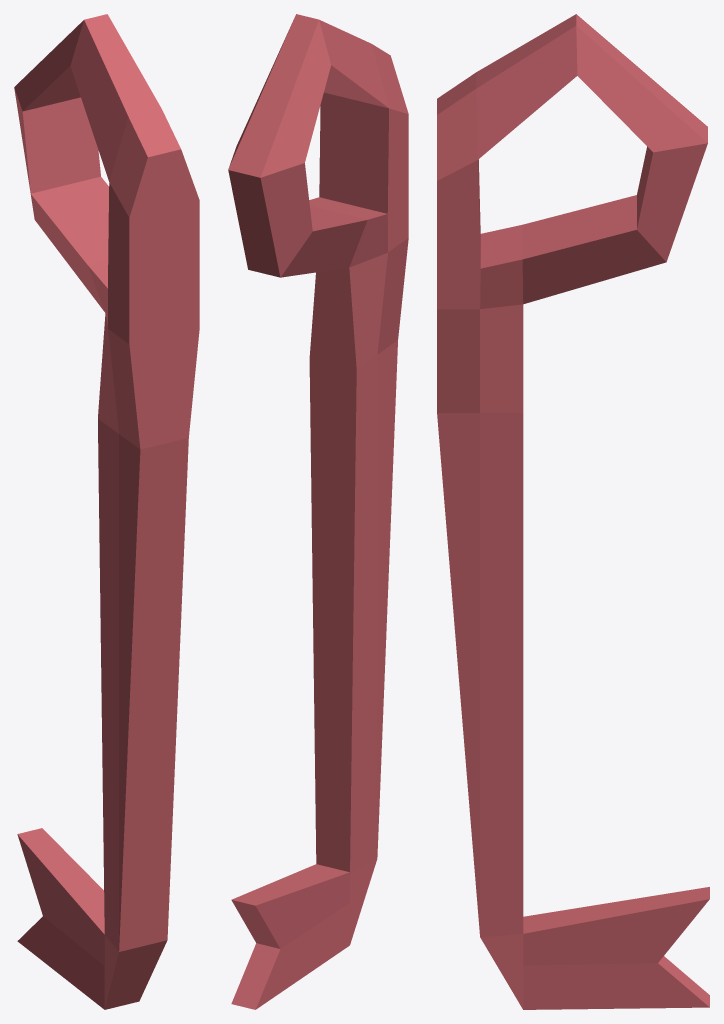
Rendered from Key4Fragment3.fbx.
3 views of the same model, side by side, from view 1: azimuth 30°, elevation 25°; view 2: azimuth 150°, elevation 25°; view 3: azimuth 270°, elevation 25° (orthographic). The views are drawn at different scales.
Visible parts, largest first — view 1: Key4.003; view 2: Key4.003; view 3: Key4.003.
Boxes of the visible parts, x1,y1,x2,y2 form: Key4.003: (14, 14, 199, 1009); Key4.003: (228, 14, 408, 1009); Key4.003: (437, 14, 709, 1009).
Size of the model in its own units: 0.0537 by 0.1782 by 0.7069.
